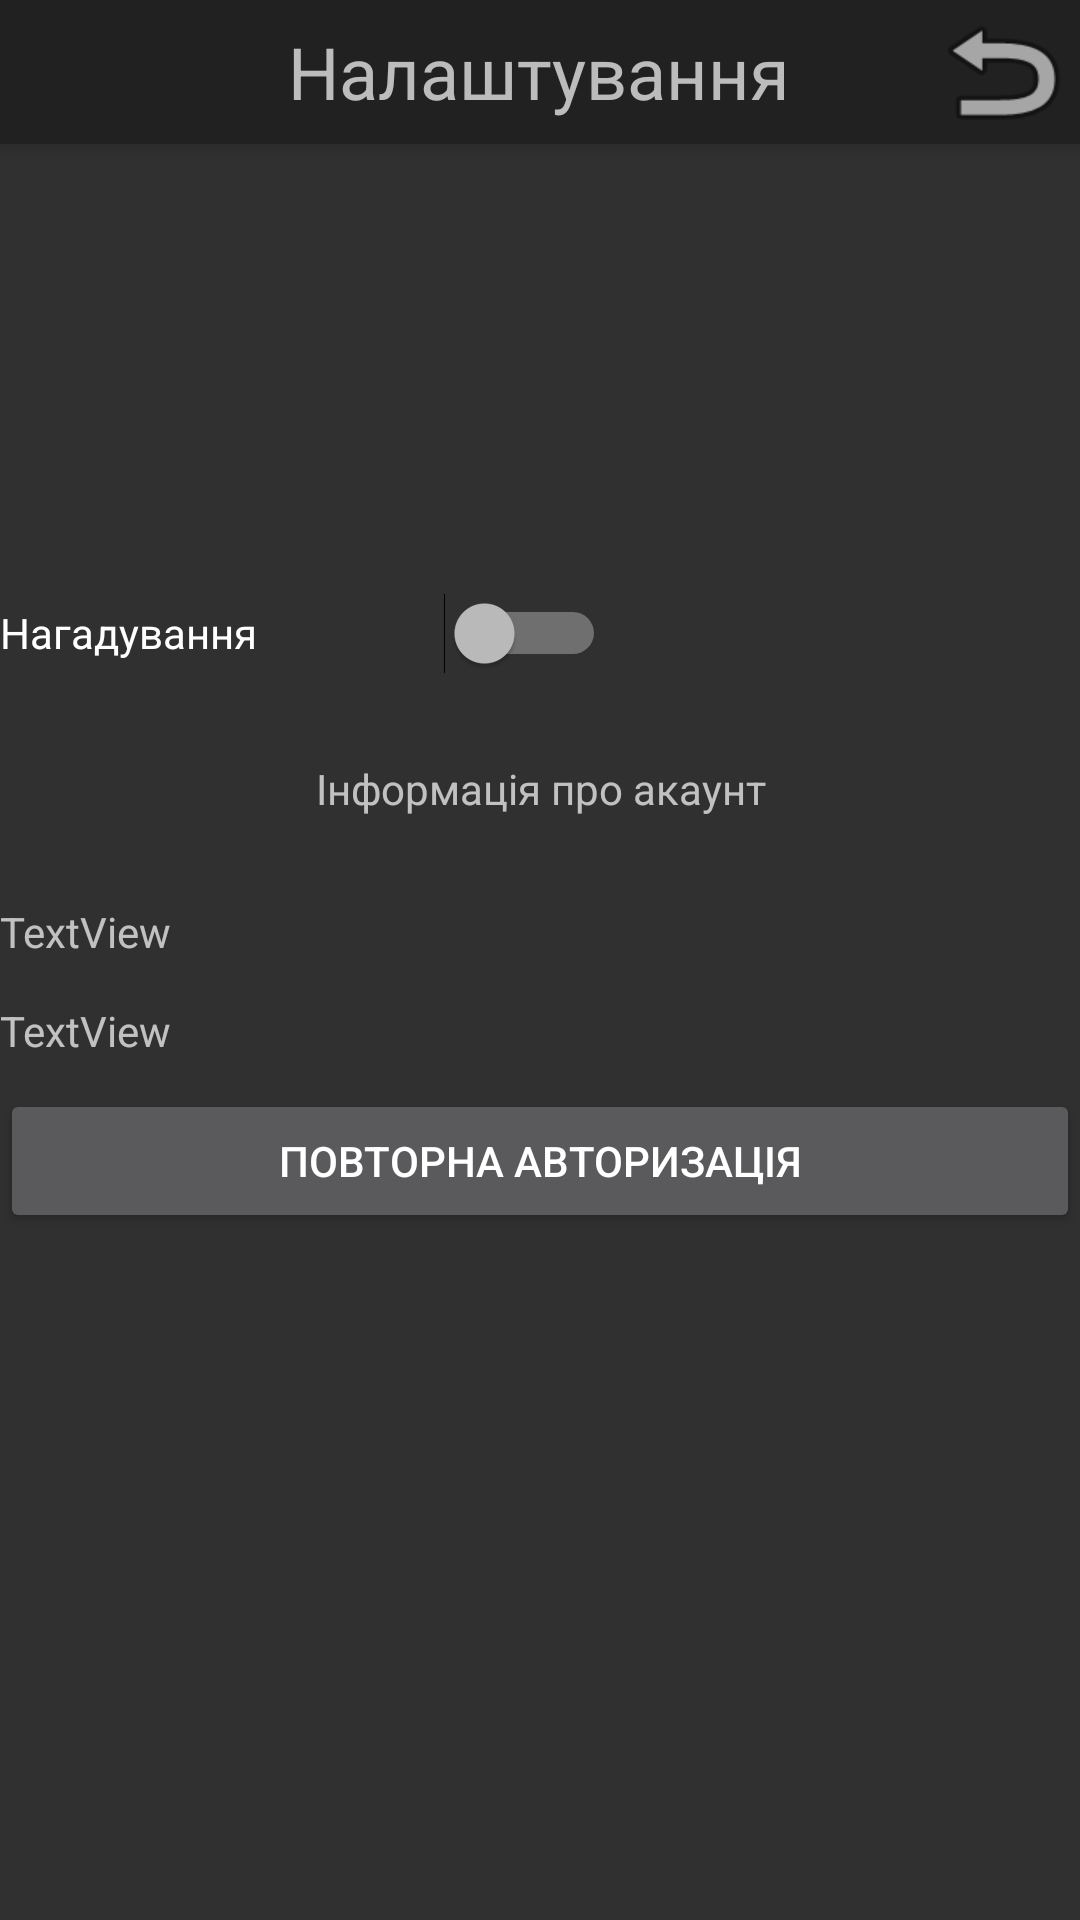

Named icons in this screenshot (1080px x 1920px) and their centers, (x,y):
revert: (1004,73)
